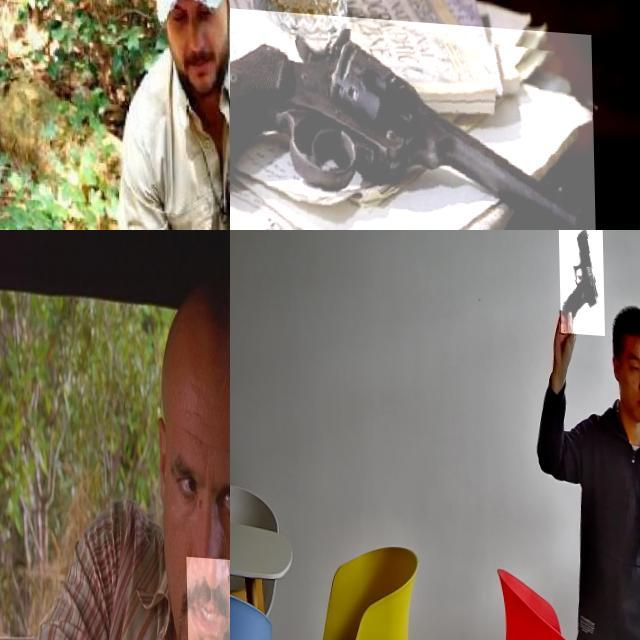gun-knife-thesis - v11 Yolov5 augmented: (230, 0, 594, 230), (558, 230, 603, 330)
